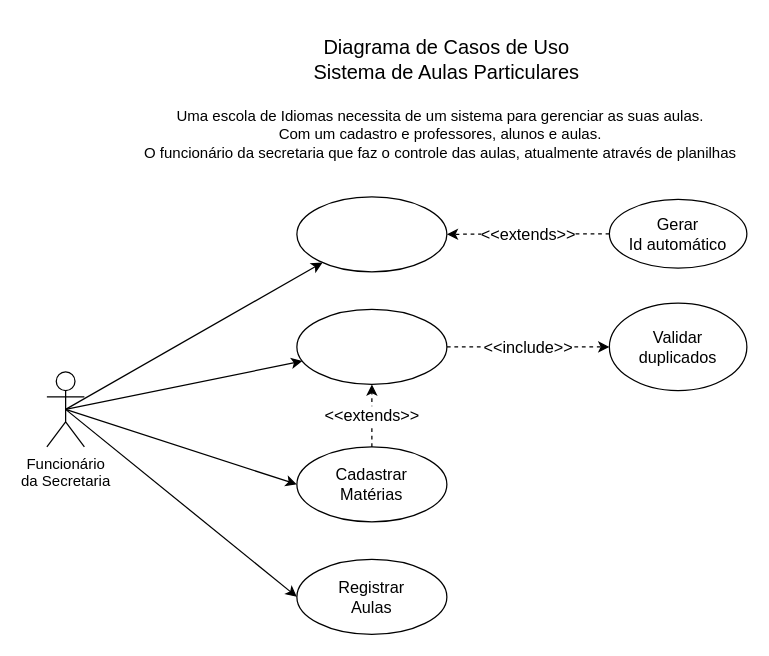
This 769x656 diagram has some shape labels left out. The box of each missing label's shape, as (x1, y1, x2, y2) in pixels:
Cadastrar Alunos: (296, 308, 447, 384)
Cadastrar Professores: (296, 196, 447, 272)
